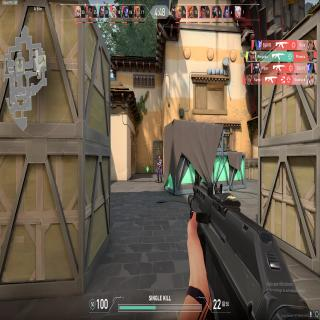ENEMY-BODY: (156, 155, 162, 182)
ENEMY-HEAD: (158, 156, 161, 160)
